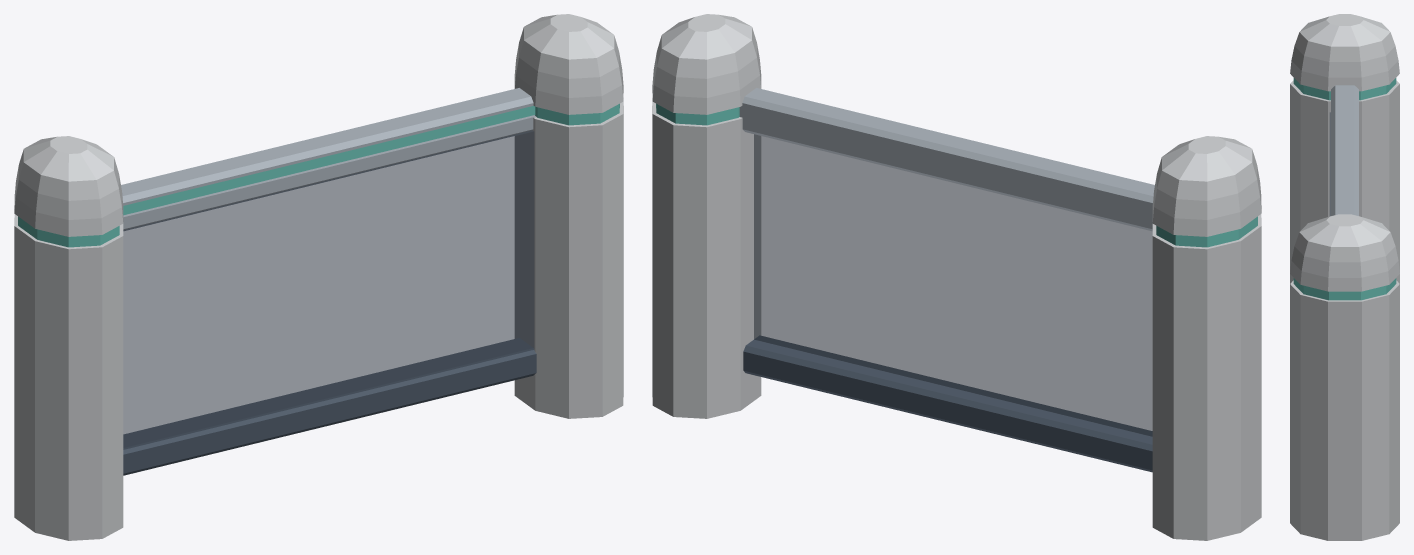
The model's file is boundary-fence-run-ed6782.glb.
3 renders of one model, left to right at view 1: azimuth 30°, elevation 25°; view 2: azimuth 150°, elevation 25°; view 3: azimuth 270°, elevation 25°, orthographic. The views are drawn at different scales.
Parts seen in each view (by area): view 1: fence-frame, infill-glass; view 2: fence-frame, infill-glass; view 3: fence-frame, infill-glass.
Part boxes in pixels (x1,y1,x2,y2): fence-frame: [14, 14, 623, 540]; infill-glass: [123, 130, 534, 449]; fence-frame: [652, 14, 1261, 540]; infill-glass: [754, 134, 1152, 436]; fence-frame: [1290, 14, 1399, 540]; infill-glass: [1329, 112, 1330, 216].
Size of the model in its own units: 4 by 2.4 by 0.7886.
